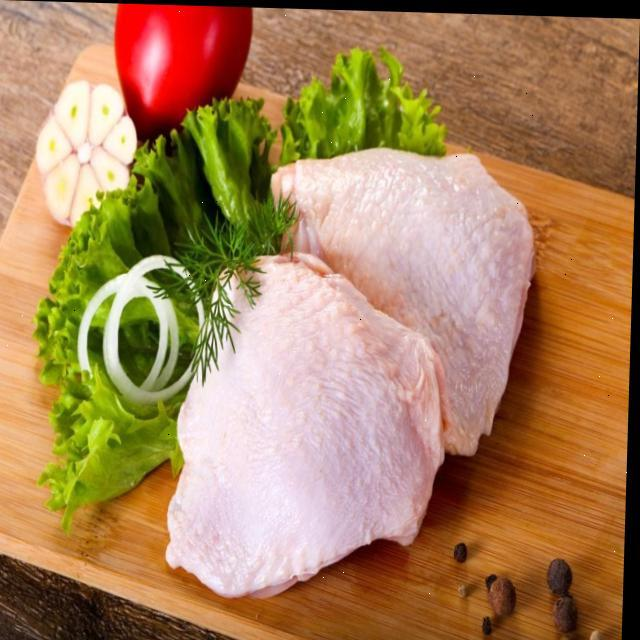thigh: (262, 133, 560, 460), (152, 263, 455, 584)
